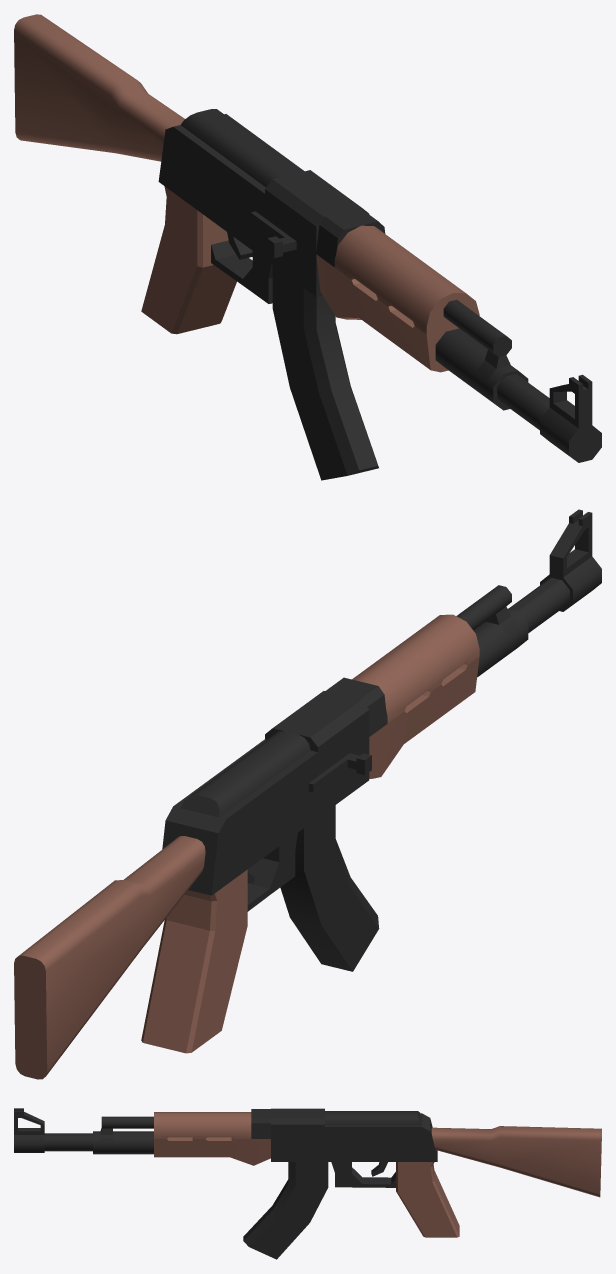
3 renders of one model, top to bottom at view 1: azimuth 30°, elevation 25°; view 2: azimuth 150°, elevation 25°; view 3: azimuth 270°, elevation 25°, orthographic. The views are drawn at different scales.
Parts seen in each view (by area): view 1: AK47 Body, AK47 Magazine, AK47 Bolt; view 2: AK47 Body, AK47 Magazine, AK47 Bolt; view 3: AK47 Body, AK47 Magazine.
Part boxes in pixels (left/top/right/bottom): AK47 Body: left=14, top=14, right=601, bottom=462; AK47 Magazine: left=272, top=265, right=378, bottom=480; AK47 Bolt: left=250, top=211, right=296, bottom=258; AK47 Body: left=14, top=509, right=601, bottom=1079; AK47 Magazine: left=280, top=805, right=379, bottom=971; AK47 Bolt: left=308, top=753, right=371, bottom=792; AK47 Body: left=14, top=1108, right=601, bottom=1237; AK47 Magazine: left=243, top=1162, right=328, bottom=1259.
Bounding box in the file's own units: 0.1553 × 0.5424 × 1.99.
